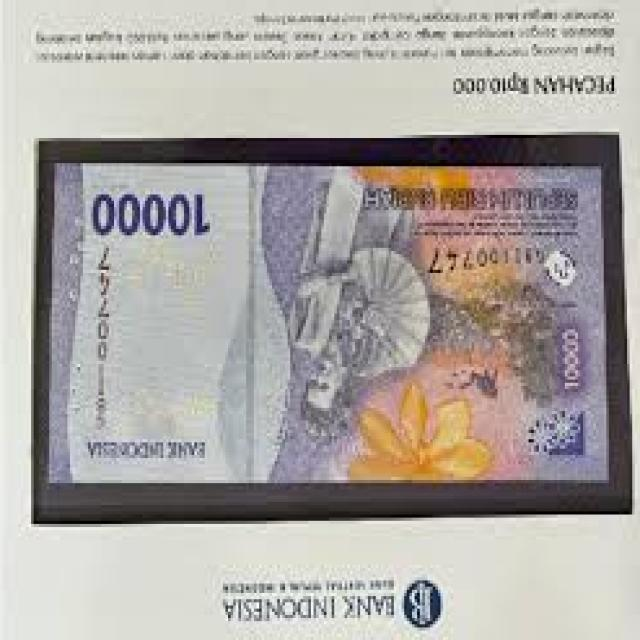sepuluh ribu rupiah: (54, 156, 607, 485)
